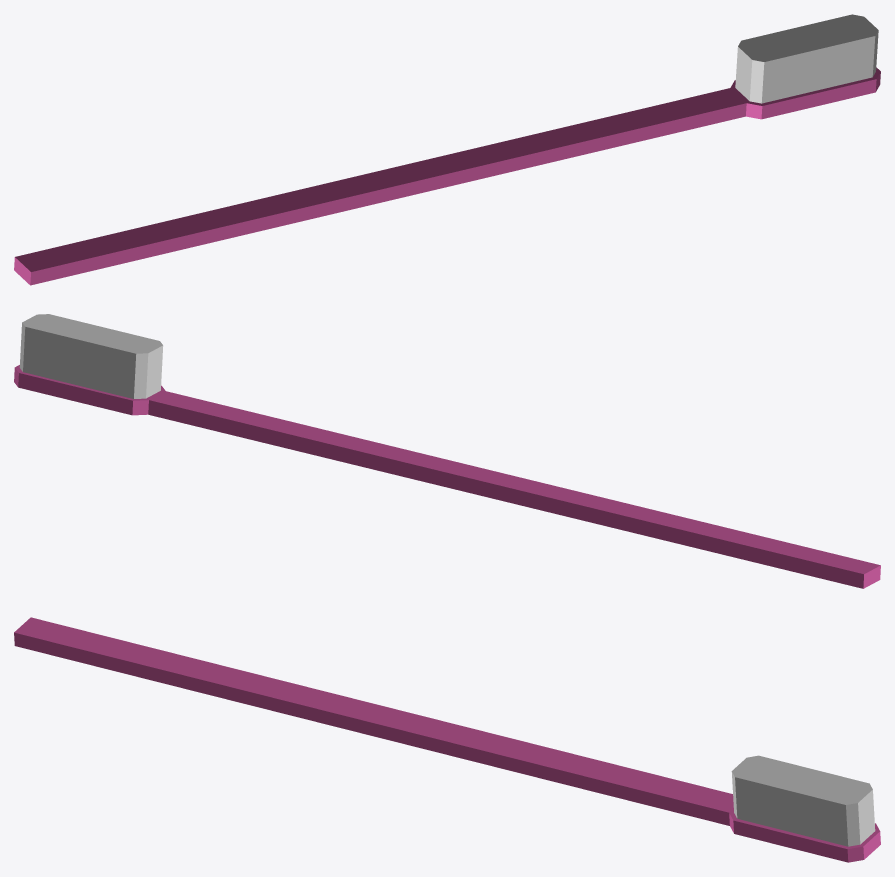
Rendered from Tooth Brush.fbx.
The picture shows the model from 3 angles, top to bottom: view 1: azimuth 30°, elevation 25°; view 2: azimuth 150°, elevation 25°; view 3: azimuth 330°, elevation 25°; orthographic projection.
Parts seen in each view (by area): view 1: Tooth Brush; view 2: Tooth Brush; view 3: Tooth Brush.
Boxes of the visible parts, <box> form: Tooth Brush: <box>14,14,880,285</box>; Tooth Brush: <box>14,314,880,588</box>; Tooth Brush: <box>14,617,880,862</box>.
Size of the model in its own units: 0.0142 by 0.0167 by 0.2365.
